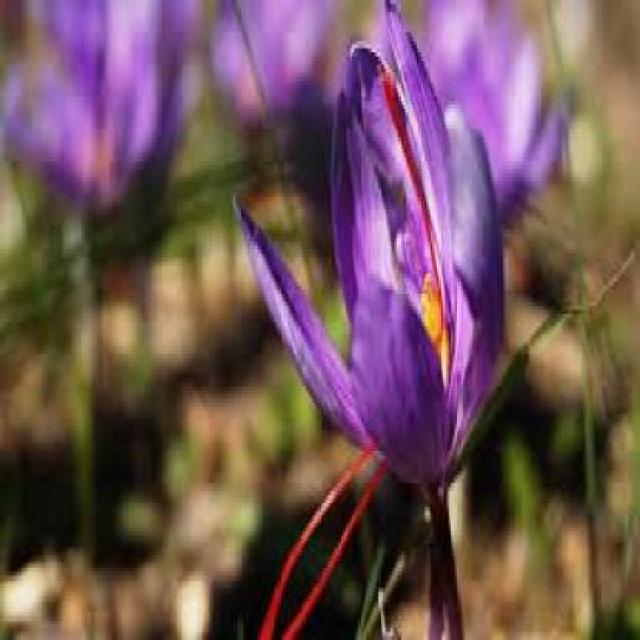Flower: (238, 0, 502, 522)
stigma: (254, 431, 403, 640), (371, 58, 455, 376)
